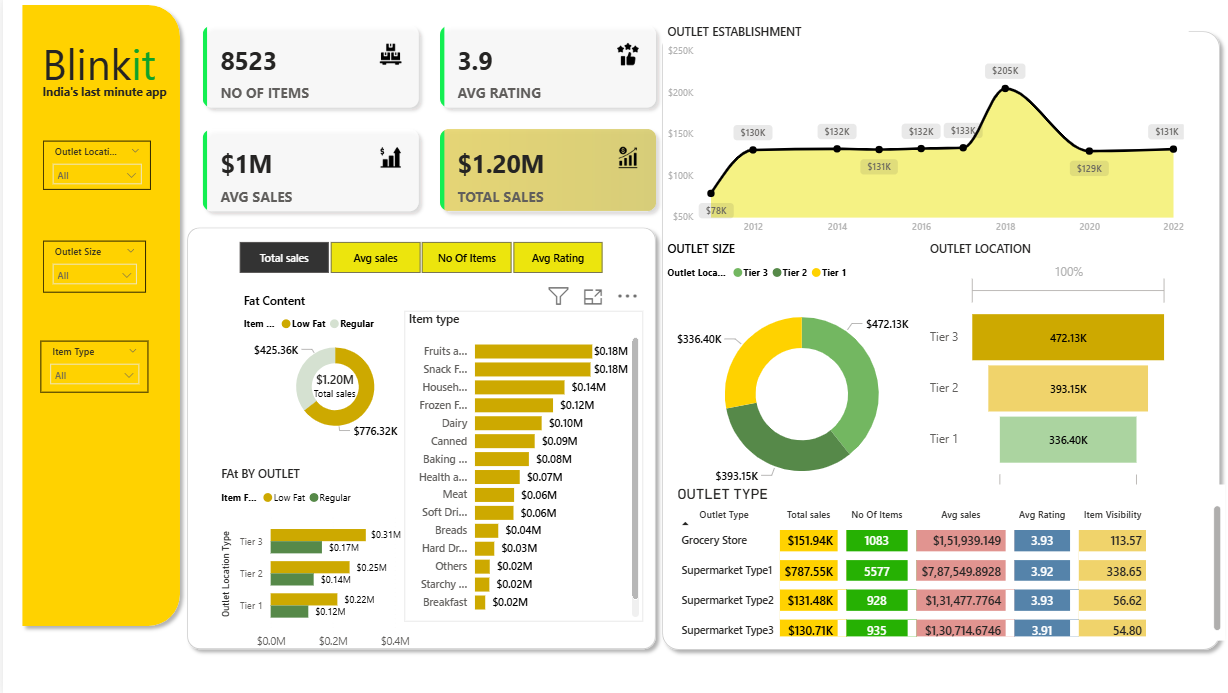

The dashboard page shown, as its layout file describes it:
{"tool":"powerbi","page":{"name":"Page 1","canvas":[1400,800],"ordinal":0},"visuals":[{"type":"shape","box":[13.4,0,198.4,727.9],"z":0},{"type":"textbox","box":[40.5,39,204.1,82.5],"z":1000},{"type":"textbox","box":[40.5,94.6,165.1,40.5],"z":2000},{"type":"cardVisual","fields":{"Data":["BlinkIT Grocery Data.No Of Items","BlinkIT Grocery Data.Avg Rating","BlinkIT Grocery Data.Avg sales","BlinkIT Grocery Data.Total sales"]},"box":[211.8,16.1,553.6,248],"z":3000},{"type":"shape","box":[201.1,254.7,553.6,500],"z":4000},{"type":"donutChart","title":"Fat Content","fields":{"Y":["BlinkIT Grocery Data.Total sales"],"Category":["BlinkIT Grocery Data.Item Fat Content"]},"box":[269.4,337.8,219.8,171.6],"z":5000},{"type":"slicer","fields":{"Values":["Metrics.Metrics"]},"box":[244,273.5,465.1,49.6],"z":6000},{"type":"cardVisual","fields":{"Data":["BlinkIT Grocery Data.Total sales"]},"box":[327.1,411.5,104.6,53.6],"z":7000},{"type":"clusteredBarChart","title":"FAt BY OUTLET","fields":{"Y":["BlinkIT Grocery Data.Total sales"],"Category":["BlinkIT Grocery Data.Outlet Location Type"],"Series":["BlinkIT Grocery Data.Item Fat Content"]},"box":[244,536.2,233.2,218.5],"z":8000},{"type":"barChart","title":"Item type","fields":{"Y":["BlinkIT Grocery Data.Total sales"],"Category":["BlinkIT Grocery Data.Item Type"]},"box":[458.4,359.3,273.5,355.2],"z":9000},{"type":"shape","box":[744,29.5,655.5,725.2],"z":10000},{"type":"lineChart","title":"OUTLET ESTABLISHMENT","fields":{"Category":["BlinkIT Grocery Data.Outlet Establishment Year"],"Y":["BlinkIT Grocery Data.Total sales"]},"box":[754.7,29.5,600.5,249.3],"z":11000},{"type":"donutChart","title":"OUTLET SIZE","fields":{"Y":["BlinkIT Grocery Data.Total sales"],"Category":["BlinkIT Grocery Data.Outlet Location Type"]},"box":[754.7,278.8,317.7,305.6],"z":12000},{"type":"funnel","title":"OUTLET LOCATION","fields":{"Y":["Sum(BlinkIT Grocery Data.Sales)"],"Category":["BlinkIT Grocery Data.Outlet Location Type"]},"box":[1055,278.8,282.8,320.4],"z":13000},{"type":"pivotTable","title":"OUTLET TYPE","fields":{"Rows":["BlinkIT Grocery Data.Outlet Type"],"Values":["BlinkIT Grocery Data.Total sales","BlinkIT Grocery Data.No Of Items","BlinkIT Grocery Data.Avg sales","BlinkIT Grocery Data.Avg Rating","Sum(BlinkIT Grocery Data.Item Visibility)"]},"box":[765.4,557.6,631.4,178.3],"z":14000},{"type":"slicer","fields":{"Values":["BlinkIT Grocery Data.Outlet Location Type"]},"box":[45.6,164.9,123.3,56.3],"z":15000},{"type":"slicer","fields":{"Values":["BlinkIT Grocery Data.Item Type"]},"box":[42.9,392.8,123.3,59],"z":16000},{"type":"slicer","fields":{"Values":["BlinkIT Grocery Data.Outlet Size"]},"box":[45.6,278.8,118,59],"z":17000}]}

Visuals, with their boxes in screenshot pixels (x1, y1, x2, y2), scaled from the page's 1400x800 canvas onto the 1228x693 screenshot:
shape: box(12, 0, 186, 631)
textbox: box(36, 34, 215, 105)
textbox: box(36, 82, 180, 117)
cardVisual - BlinkIT Grocery Data.No Of Items x BlinkIT Grocery Data.Avg Rating: box(186, 14, 671, 229)
shape: box(176, 221, 662, 654)
"Fat Content" donutChart: box(236, 293, 429, 441)
slicer - Metrics.Metrics: box(214, 237, 622, 280)
cardVisual - BlinkIT Grocery Data.Total sales: box(287, 356, 379, 403)
"FAt BY OUTLET" clusteredBarChart: box(214, 464, 419, 654)
"Item type" barChart: box(402, 311, 642, 619)
shape: box(653, 26, 1227, 654)
"OUTLET ESTABLISHMENT" lineChart: box(662, 26, 1189, 242)
"OUTLET SIZE" donutChart: box(662, 242, 941, 506)
"OUTLET LOCATION" funnel: box(925, 242, 1173, 519)
"OUTLET TYPE" pivotTable: box(671, 483, 1225, 637)
slicer - BlinkIT Grocery Data.Outlet Location Type: box(40, 143, 148, 192)
slicer - BlinkIT Grocery Data.Item Type: box(38, 340, 146, 391)
slicer - BlinkIT Grocery Data.Outlet Size: box(40, 242, 144, 293)
